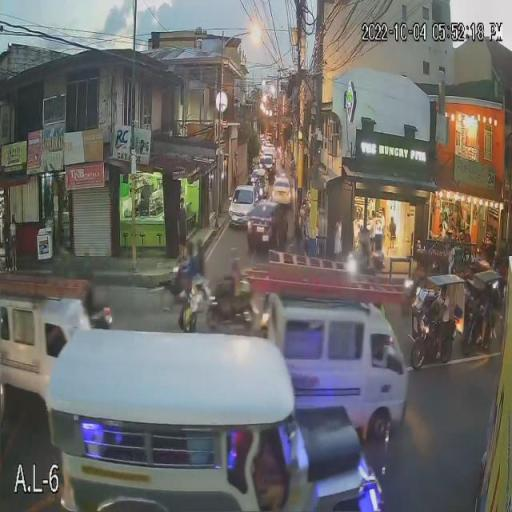helmet: (231, 257, 242, 272), (194, 236, 204, 248), (185, 241, 193, 253)
motorcycle: (207, 284, 253, 332), (162, 261, 188, 310)
rider: (223, 272, 240, 310), (184, 256, 196, 291), (192, 252, 204, 284)
